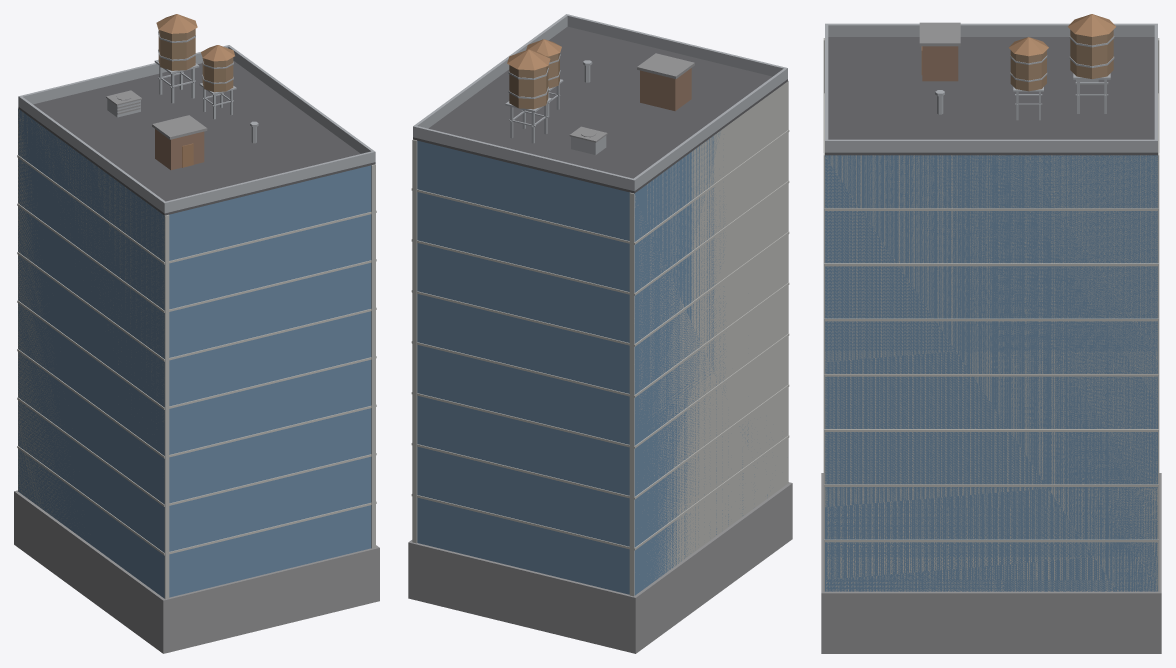
File: bld_glass_02.glb
3 views of the same model, side by side, from view 1: azimuth 30°, elevation 25°; view 2: azimuth 150°, elevation 25°; view 3: azimuth 270°, elevation 25° (orthographic). The views are drawn at different scales.
Visible parts, largest first — view 1: bld_glass_02; view 2: bld_glass_02; view 3: bld_glass_02.
Part boxes in pixels (x1,y1,x2,y2): bld_glass_02: (14, 14, 379, 653); bld_glass_02: (408, 14, 792, 653); bld_glass_02: (821, 14, 1161, 653).
Bounding box in the file's own units: 15.4 × 35.35 × 18.4.
